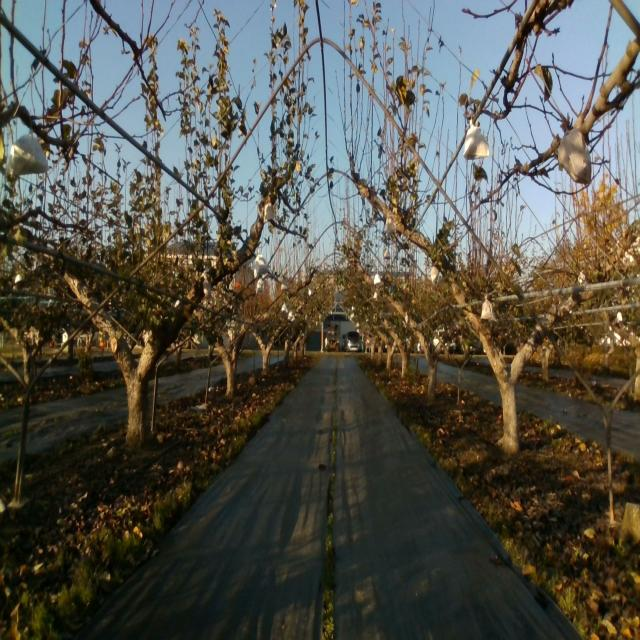pearbags: (7, 128, 50, 182), (559, 128, 592, 186), (464, 118, 489, 159), (480, 293, 497, 321), (253, 252, 271, 277), (263, 201, 275, 224), (384, 216, 397, 237), (201, 276, 212, 299), (429, 264, 440, 285)
